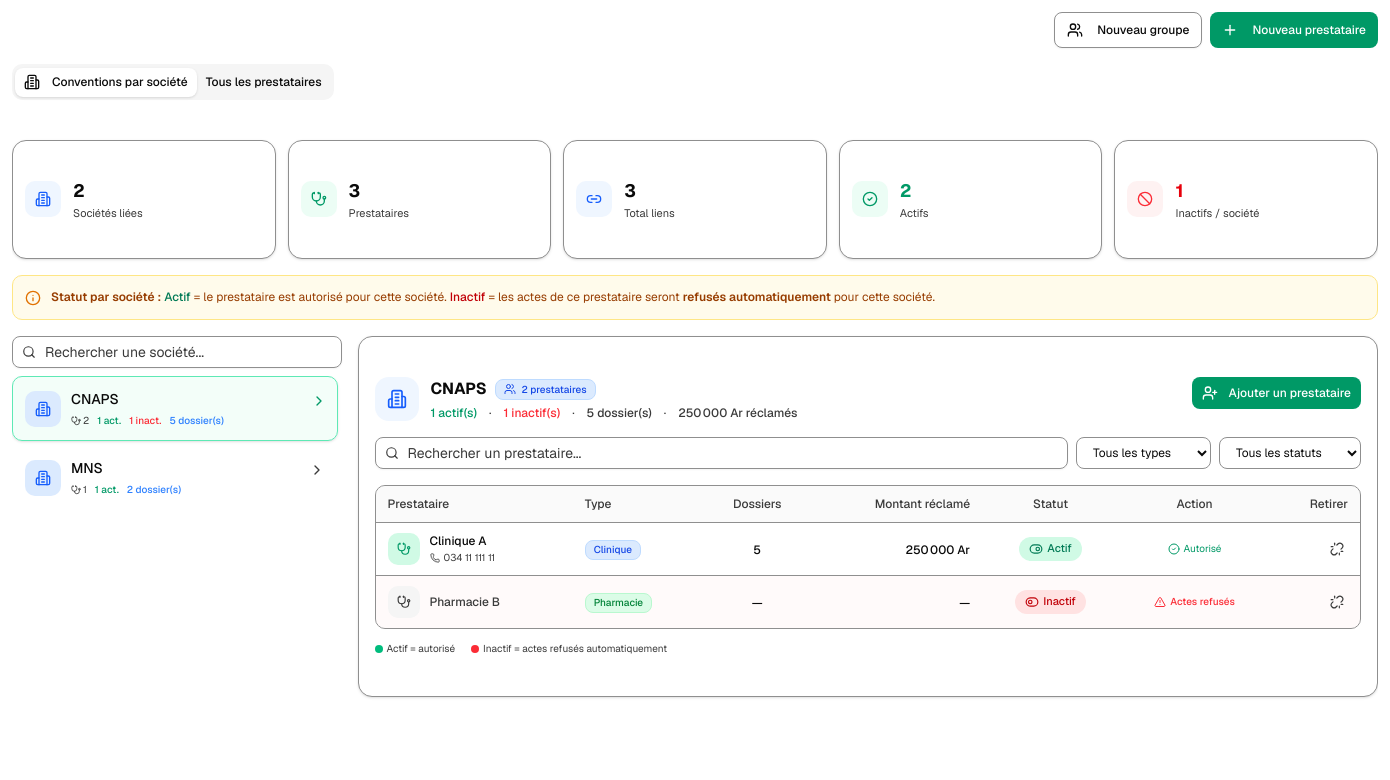
Test: PrestatairesView — caractérisation › filtre par type et par statut via les listes déroulantes
Check: the text "Clinique A" is shown, box [430,533,495,549]
Select "Pharmacie" in the 1st dropdown at coordinates (1144, 453), box [1076,437,1211,469]
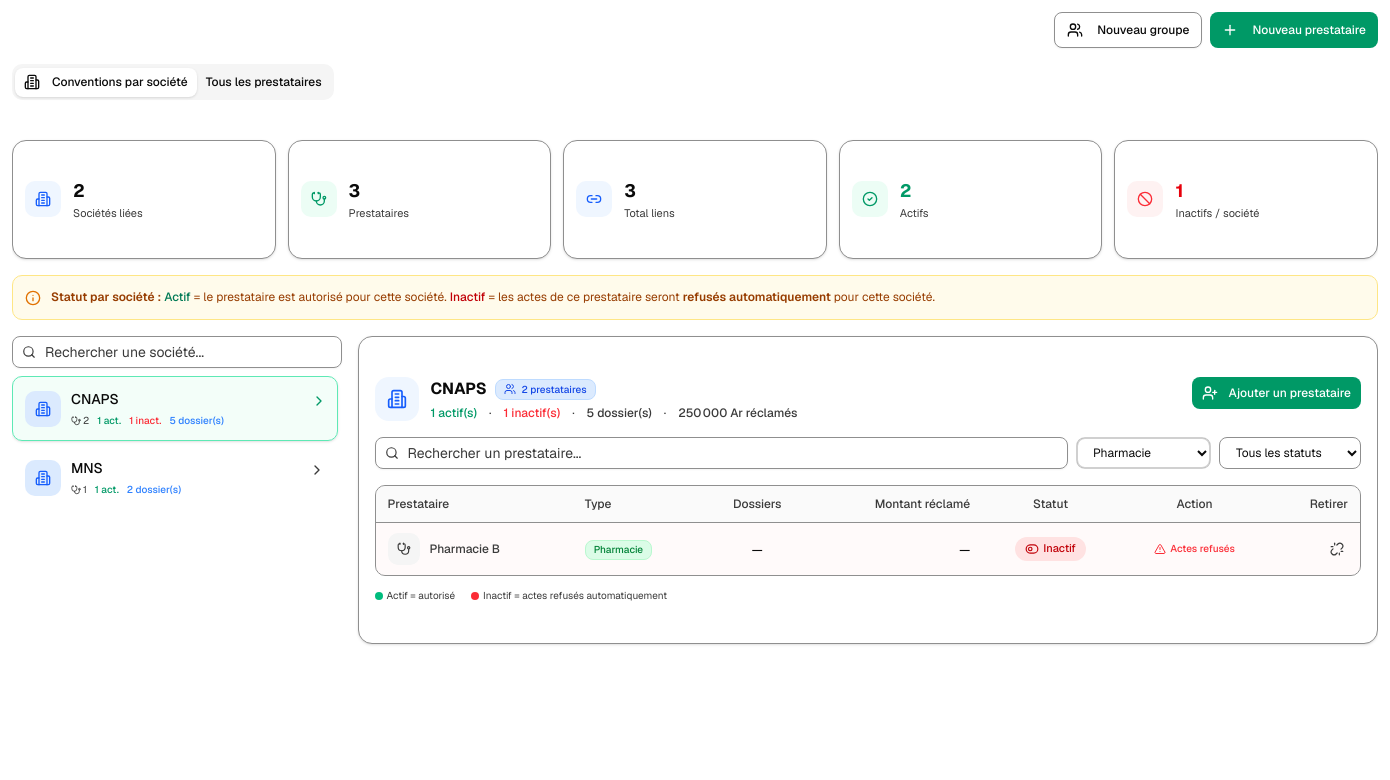
Check: the text "Pharmacie B" is shown, box [430,541,500,557]
Check: the text "Clinique A" is gone
Select "Tous les types" in the 1st dropdown at coordinates (1144, 453), box [1076,437,1211,469]
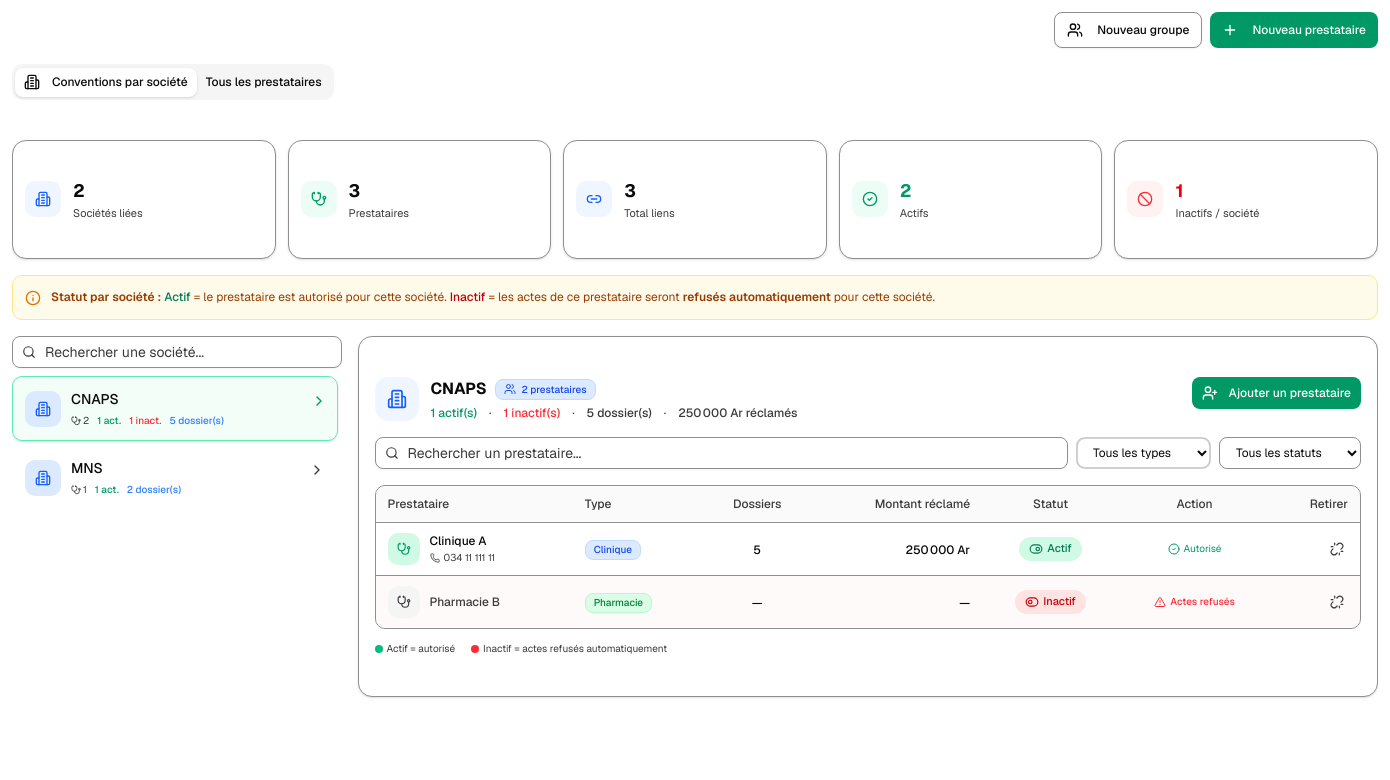
Select "Inactif seulement" in the 2nd dropdown at coordinates (1290, 453), box [1219,437,1361,469]
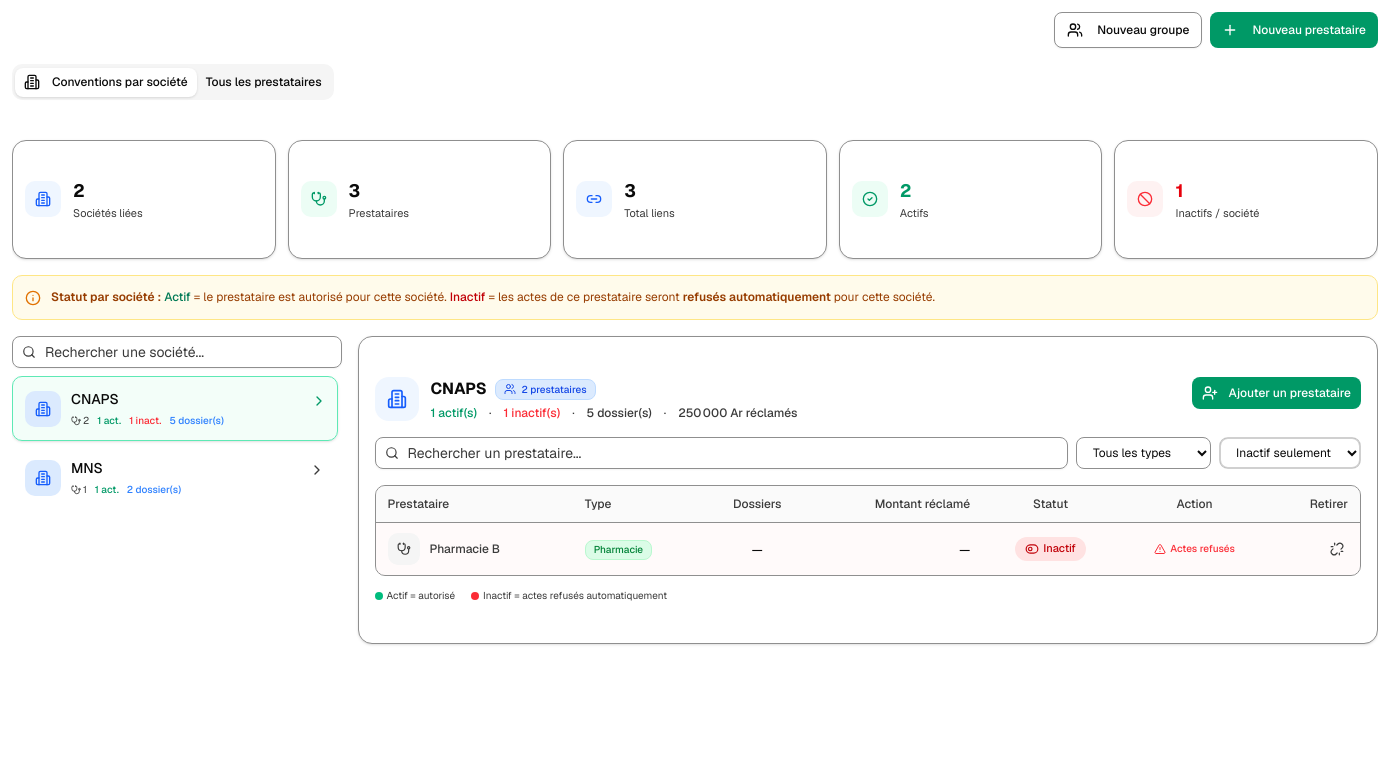
Check: the text "Pharmacie B" is shown, box [430,541,500,557]
Check: the text "Clinique A" is gone
